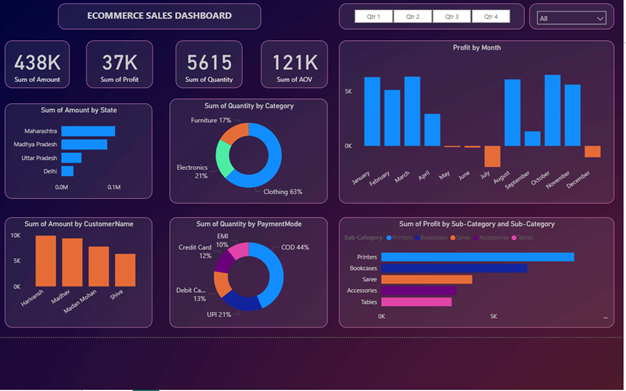

The page's visual inventory and layout, read from the dashboard file:
{"tool":"powerbi","page":{"name":"Page 1","canvas":[1280,720],"ordinal":0},"visuals":[{"type":"textbox","box":[126.2,28.8,414.4,53.5],"z":0},{"type":"columnChart","title":"Profit by Month","fields":{"Category":["Orders.Order Date.Variation.Date Hierarchy.Month"],"Y":["Details.Profit"]},"box":[699.8,105.7,561.2,337.6],"z":1000},{"type":"barChart","fields":{"Category":["Details.Sub-Category"],"Y":["Details.Profit"],"Series":["Details.Sub-Category"]},"box":[699.8,472,561.2,229.2],"z":2000},{"type":"donutChart","fields":{"Category":["Details.Category"],"Y":["Details.Quantity"]},"box":[354,226.4,322.5,216.8],"z":3000},{"type":"donutChart","fields":{"Y":["Details.Quantity"],"Category":["Details.PaymentMode"]},"box":[354,472,322.5,229.2],"z":4000},{"type":"card","fields":{"Values":["Details.Amount"]},"box":[17.8,105.7,131.7,98.8],"z":5000},{"type":"card","fields":{"Values":["Details.AOV"]},"box":[540.7,105.7,135.8,98.8],"z":6000},{"type":"card","fields":{"Values":["Details.Profit"]},"box":[183.9,105.7,135.8,98.8],"z":7000},{"type":"card","fields":{"Values":["Details.Quantity"]},"box":[366.4,105.7,135.8,98.8],"z":8000},{"type":"barChart","fields":{"Category":["Orders.State"],"Y":["Details.Amount"]},"box":[17.8,236,300.5,197.6],"z":9000},{"type":"columnChart","fields":{"Category":["Orders.CustomerName"],"Y":["Details.Amount"]},"box":[17.8,472,300.5,229.2],"z":10000},{"type":"slicer","fields":{"Values":["Orders.Order Date.Variation.Date Hierarchy.Quarter"]},"box":[699.8,28.8,378.7,53.5],"z":11000},{"type":"slicer","fields":{"Values":["Orders.State"]},"box":[1088.2,28.8,172.9,53.5],"z":12000}]}

Visuals, with their boxes in screenshot pixels (x1, y1, x2, y2):
textbox: box(53, 52, 261, 79)
"Profit by Month" columnChart: box(340, 90, 621, 259)
barChart - Details.Sub-Category x Details.Profit: box(340, 274, 621, 388)
donutChart - Details.Category x Details.Quantity: box(167, 151, 328, 259)
donutChart - Details.Quantity x Details.PaymentMode: box(167, 274, 328, 388)
card - Details.Amount: box(0, 90, 65, 140)
card - Details.AOV: box(261, 90, 328, 140)
card - Details.Profit: box(82, 90, 150, 140)
card - Details.Quantity: box(173, 90, 241, 140)
barChart - Orders.State x Details.Amount: box(0, 155, 149, 254)
columnChart - Orders.CustomerName x Details.Amount: box(0, 274, 149, 388)
slicer - Orders.Order Date.Variation.Date Hierarchy.Quarter: box(340, 52, 530, 79)
slicer - Orders.State: box(534, 52, 621, 79)
